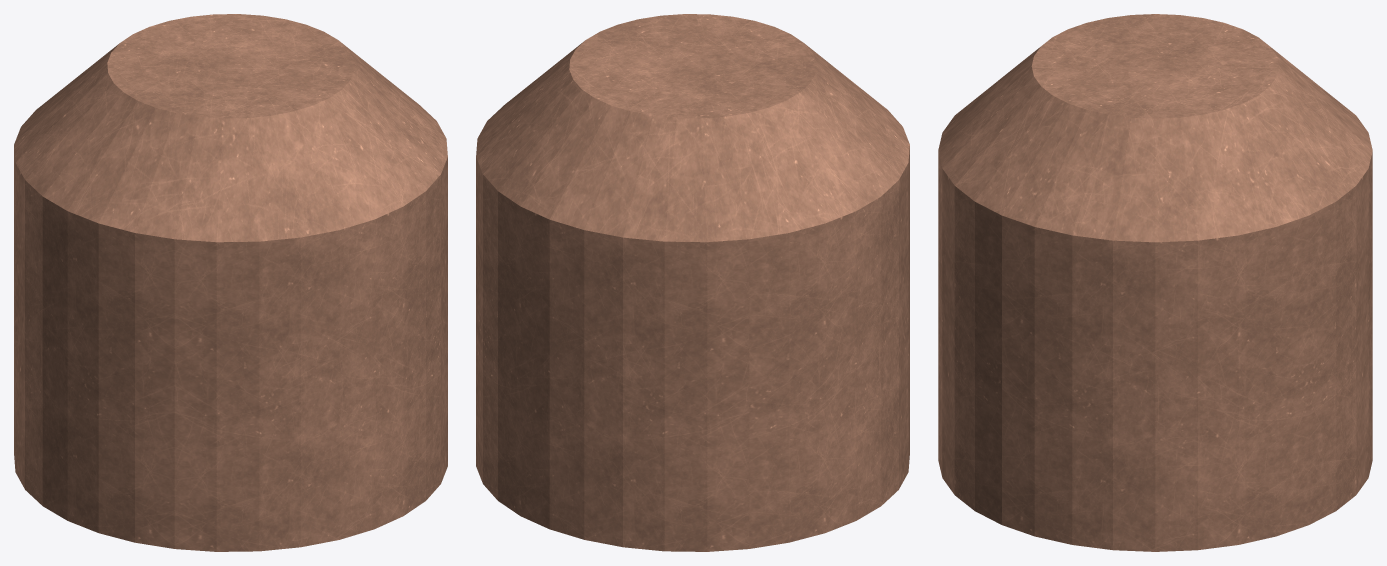
File: bullet.glb
3 views of the same model, side by side, from view 1: azimuth 30°, elevation 25°; view 2: azimuth 150°, elevation 25°; view 3: azimuth 270°, elevation 25° (orthographic).
Parts seen in each view (by area): view 1: Cylinder; view 2: Cylinder; view 3: Cylinder.
Part boxes in pixels (x1,y1,x2,y2): Cylinder: (14,14,447,551); Cylinder: (476,14,909,551); Cylinder: (938,14,1372,551).
Size of the model in its own units: 2 by 2 by 2.
1 material, 1 textured.
